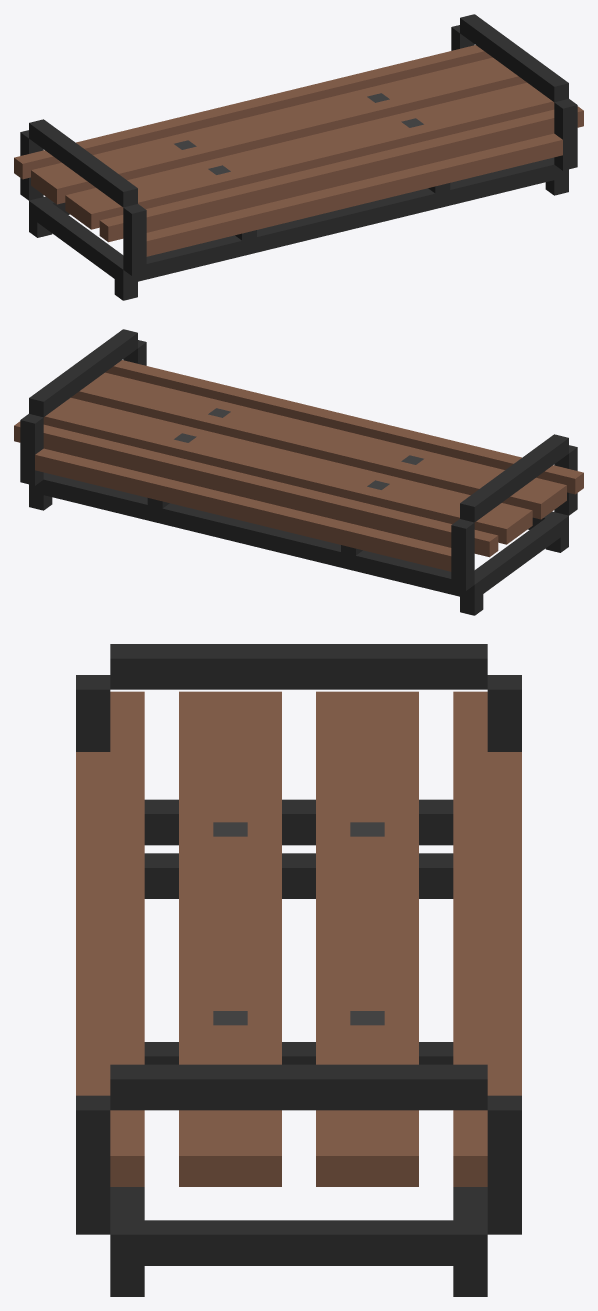
Rendered from Park_Bench_Wood_02.glb.
3 renders of one model, top to bottom at view 1: azimuth 30°, elevation 25°; view 2: azimuth 150°, elevation 25°; view 3: azimuth 270°, elevation 25°, orthographic. The views are drawn at different scales.
Parts seen in each view (by area): view 1: Park_Bench_Wood_02; view 2: Park_Bench_Wood_02; view 3: Park_Bench_Wood_02.
Boxes of the visible parts, bbox=[...] form: Park_Bench_Wood_02: bbox=[14, 14, 583, 300]; Park_Bench_Wood_02: bbox=[14, 329, 583, 615]; Park_Bench_Wood_02: bbox=[76, 644, 521, 1296].
Size of the model in its own units: 3.2 by 0.7 by 1.3.
Materials: 1 (1 with a texture image).
